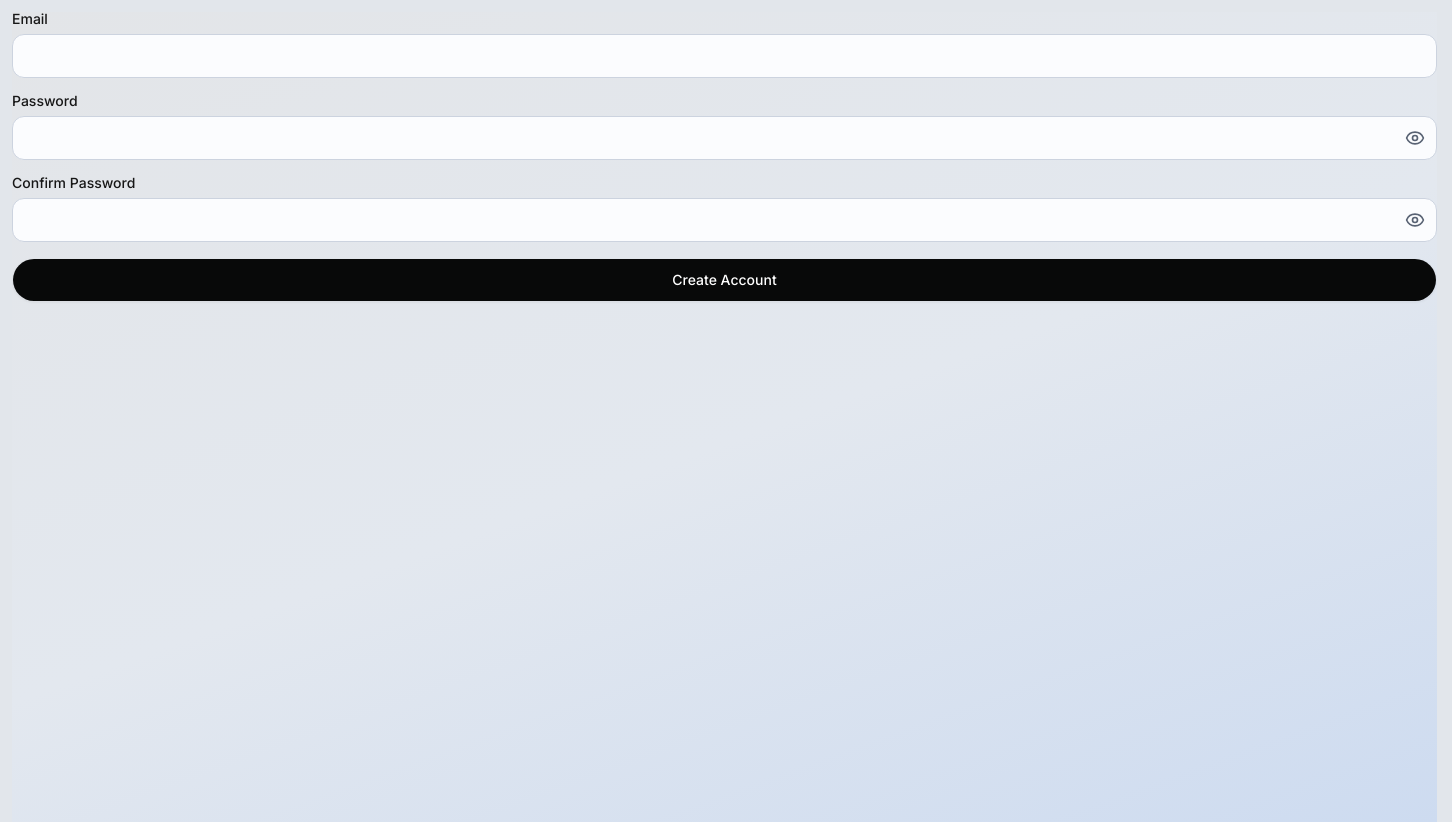
Test: SignupForm › shows the explicit non-allowlisted error returned by the trusted endpoint
Type "other@test.io" into the field labelled "Email".
click(724, 56); type("other@test.io")  # box [12, 34, 1437, 78]
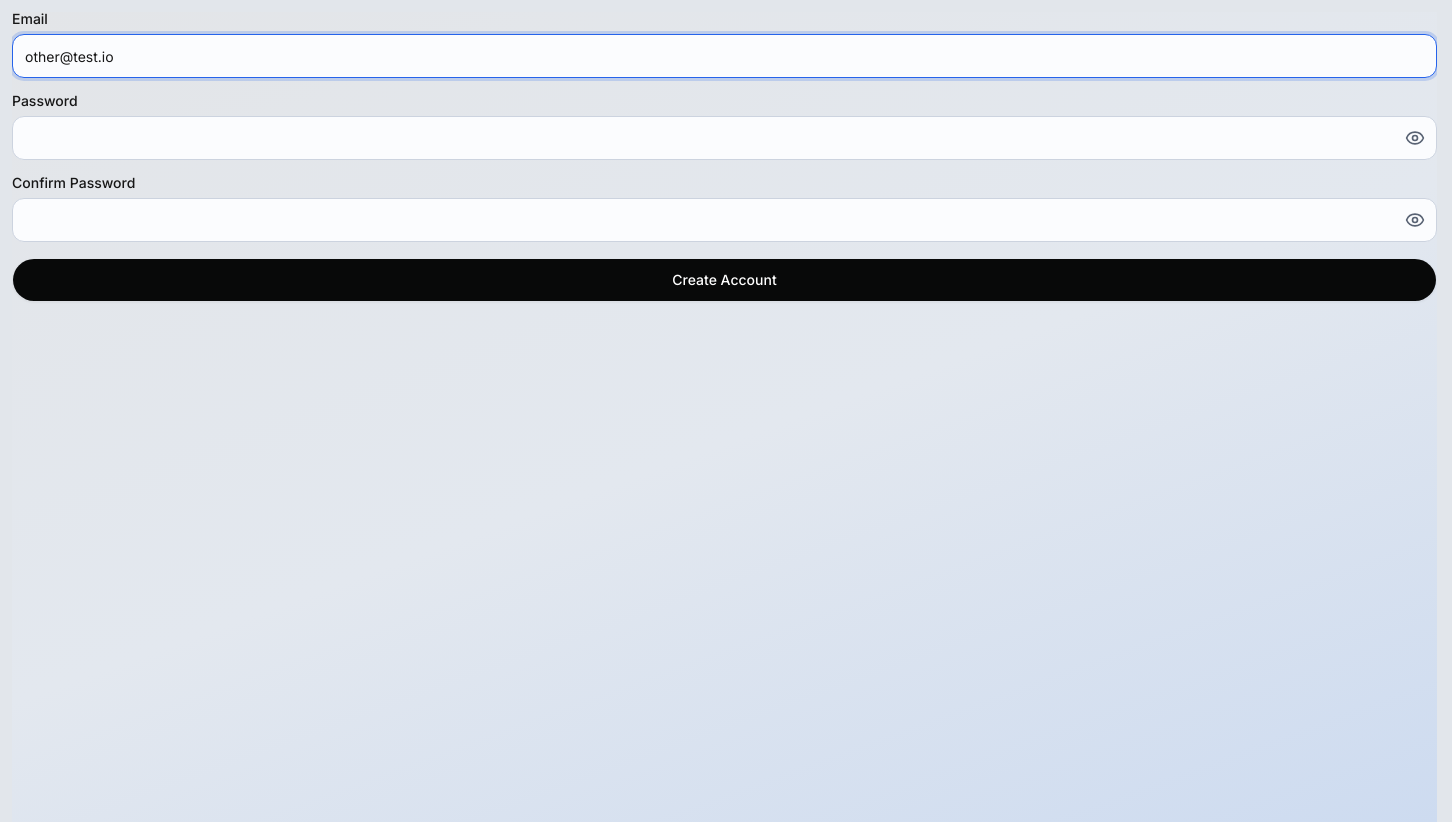
Type "new-password" into the password field labelled "Password".
click(724, 138); type("new-password")  # box [12, 116, 1437, 160]
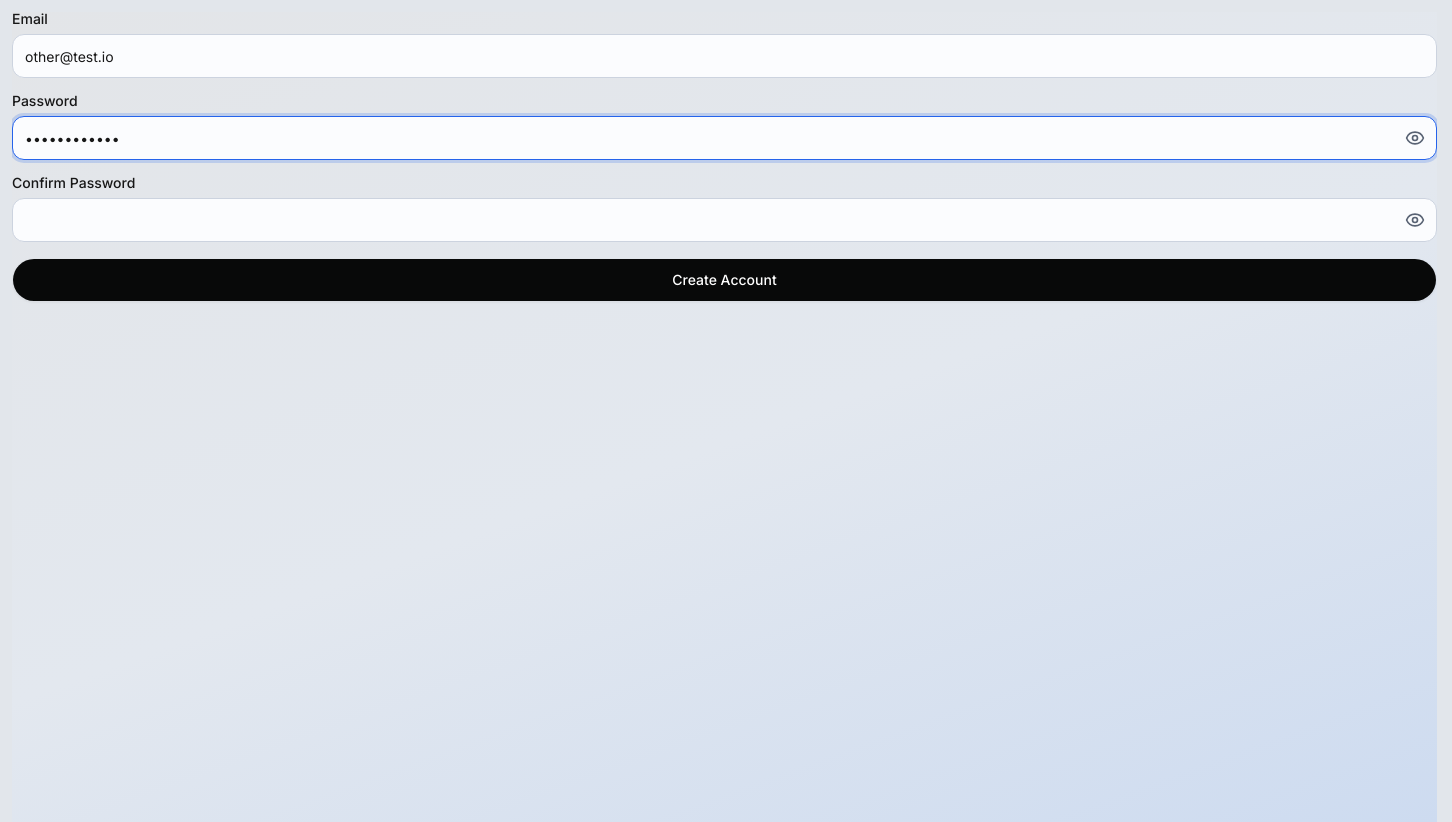
Type "new-password" into the password field labelled "Confirm Password".
click(724, 220); type("new-password")  # box [12, 198, 1437, 242]
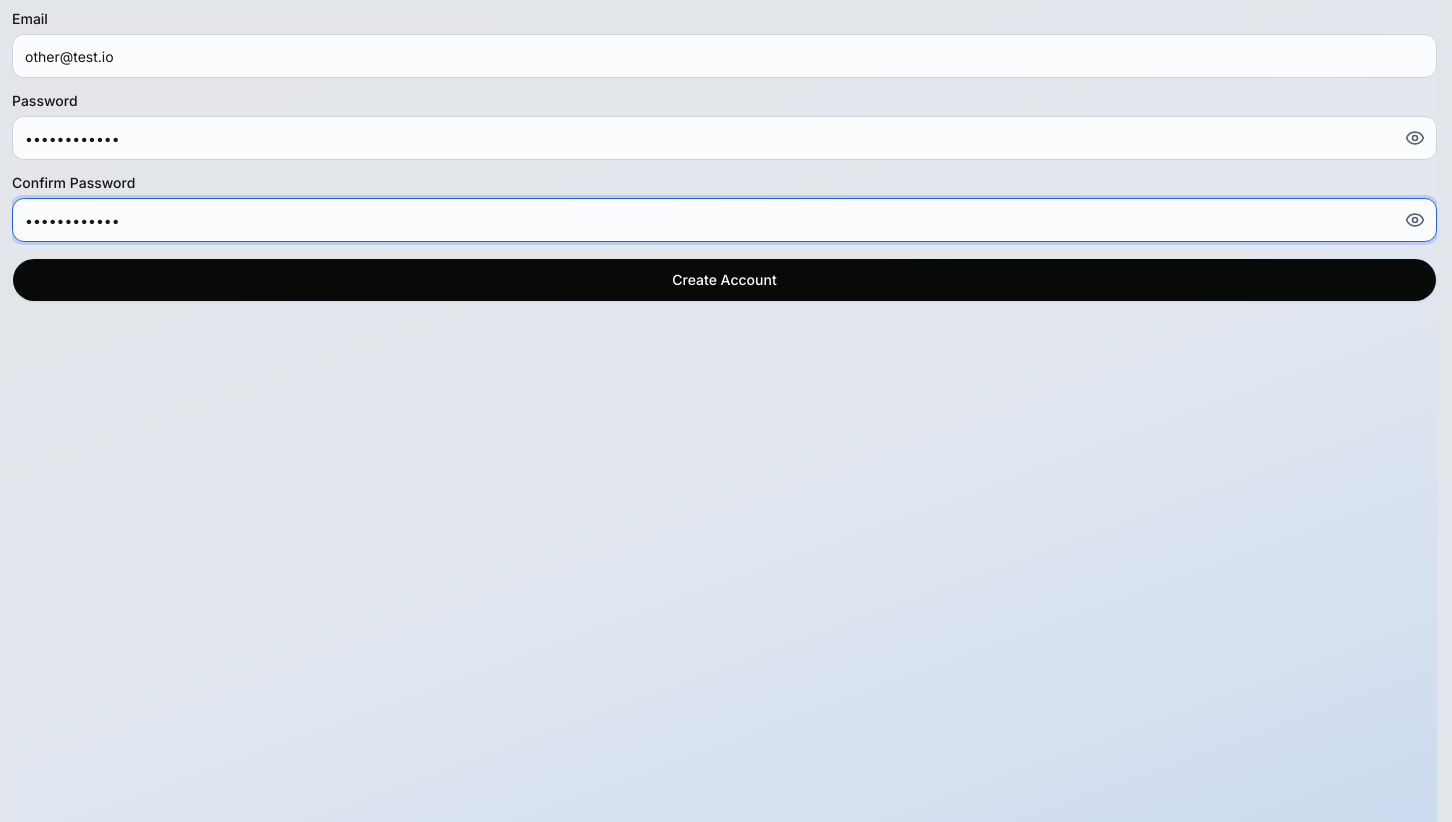
Click the button "Create Account".
click(724, 280)  # box [12, 258, 1437, 302]
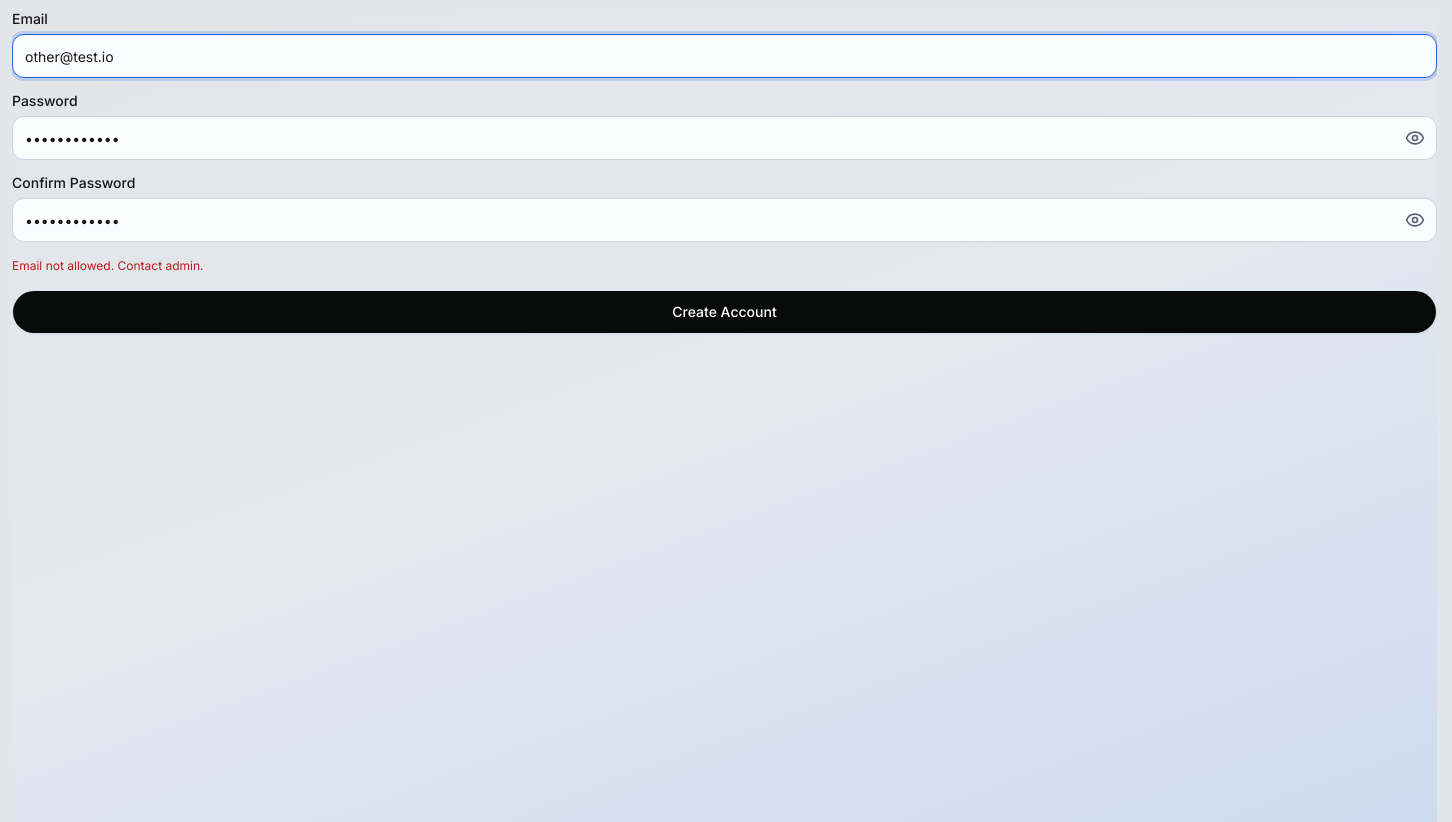
Check: the message reads "Email not allowed. Contact admin.", box [12, 258, 204, 273]
